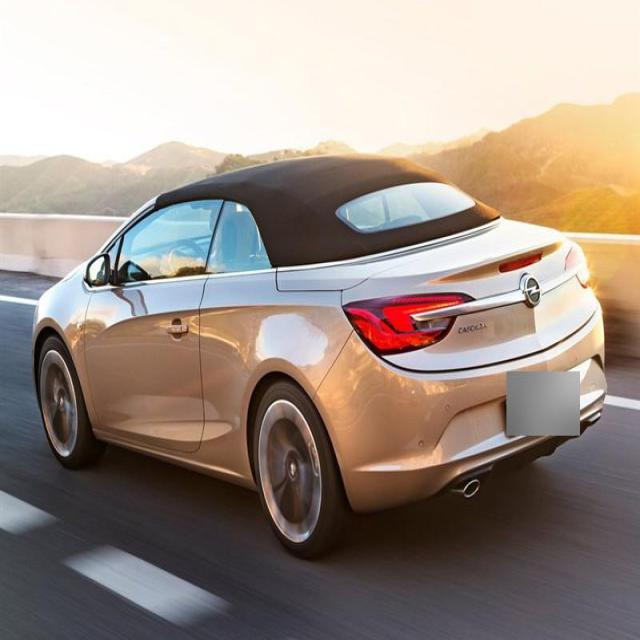back_glass: (334, 177, 484, 237)
back_left_side_light: (342, 289, 478, 362)
back_right_side_light: (559, 240, 593, 292)
front_left_side_door: (78, 192, 229, 459)
front_left_side_mirror: (83, 249, 119, 288)
rear_bumper: (306, 276, 609, 522)
wheel: (253, 382, 346, 554), (36, 335, 98, 462)
